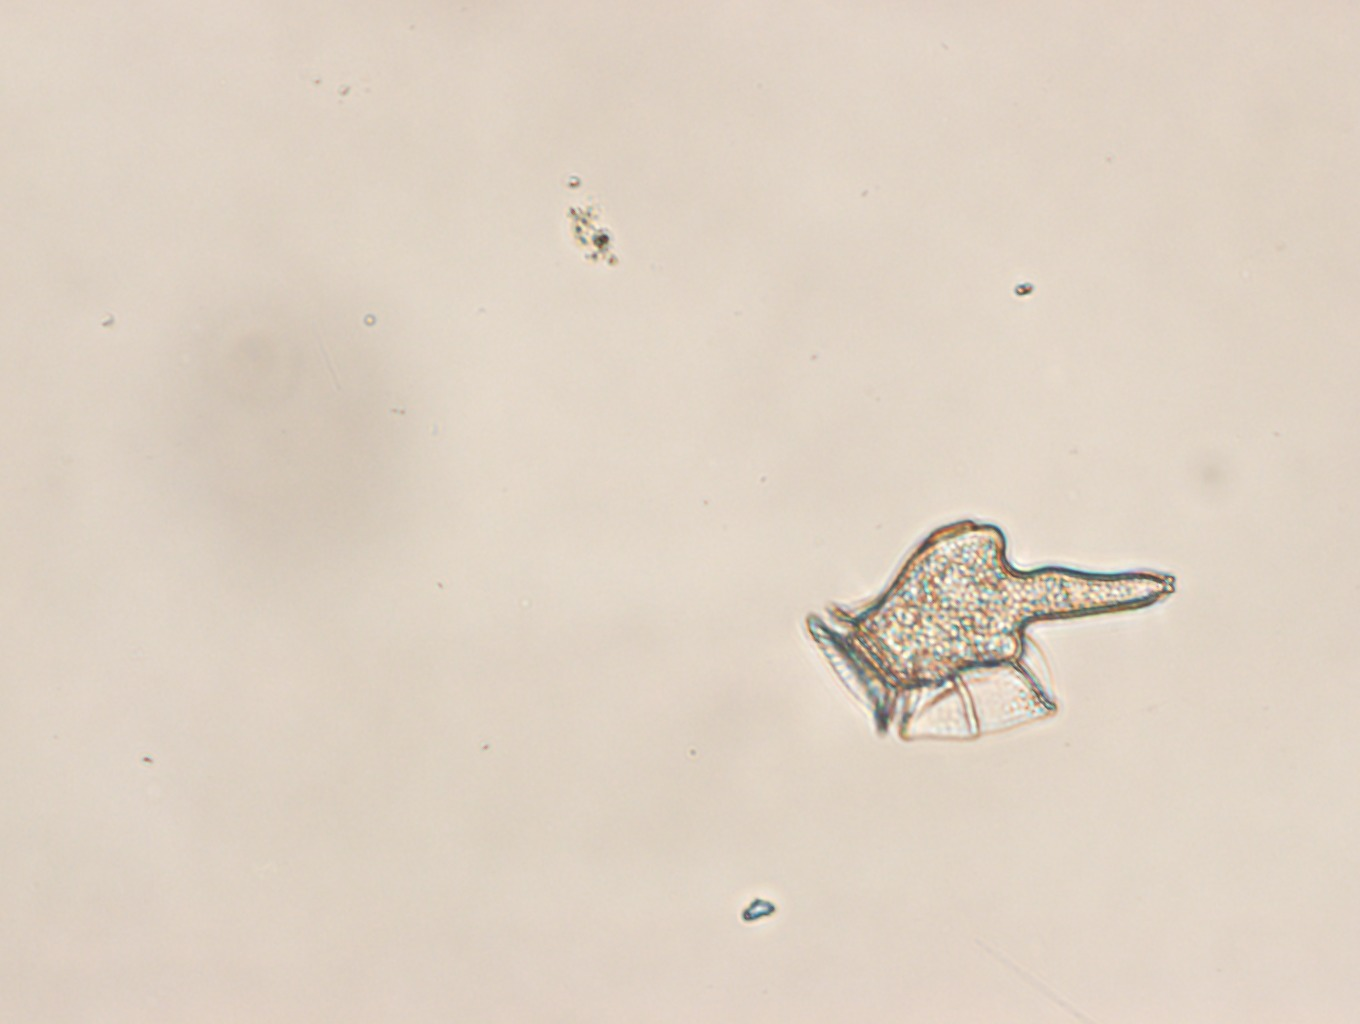dinophysis caudata: (807, 518, 1177, 743)
